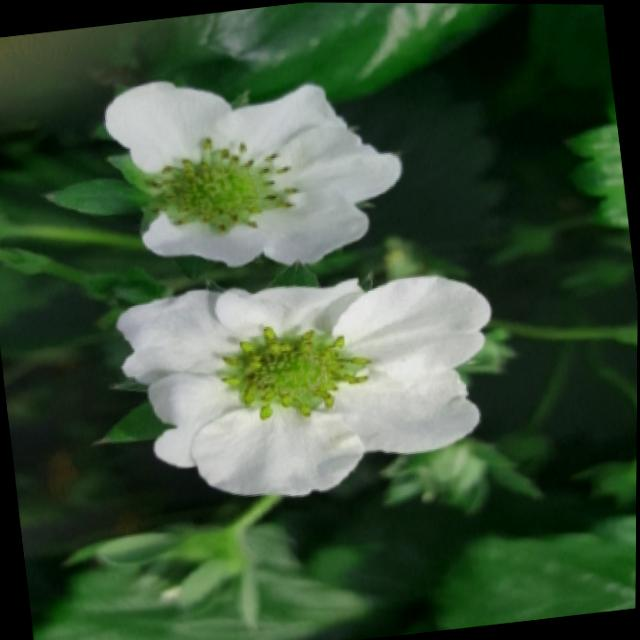Blossom Blight: (142, 133, 303, 240), (216, 318, 375, 425)
